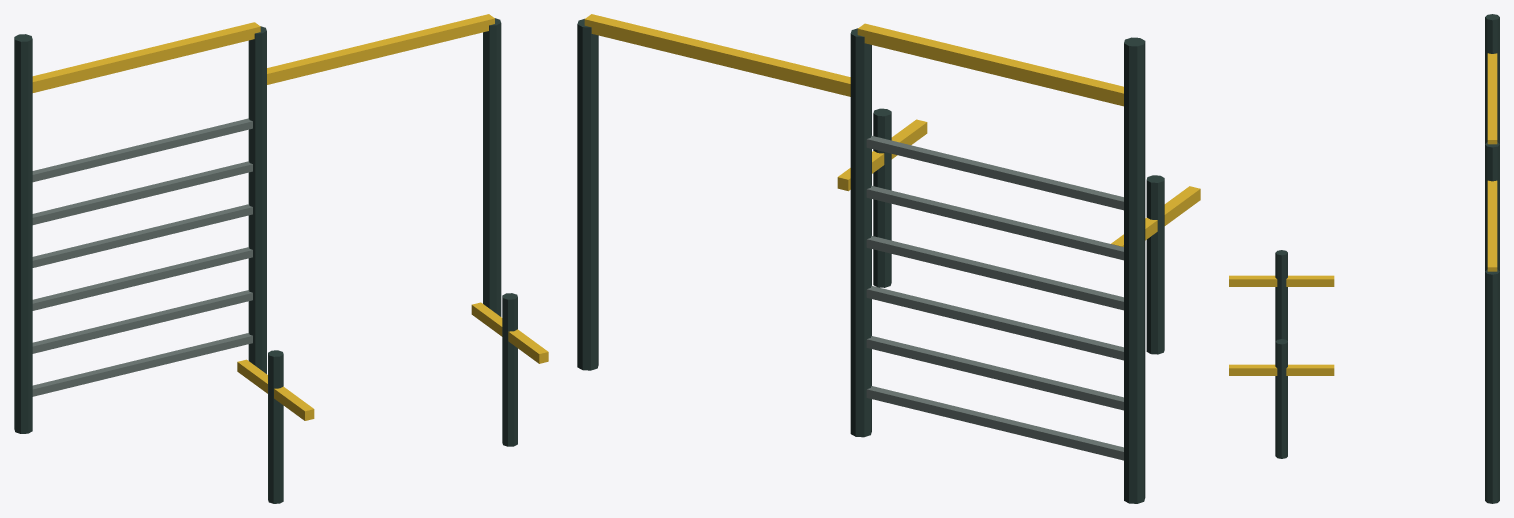
Rendered from OutdoorGym.obj.
The picture shows the model from 3 angles, left to right: view 1: azimuth 30°, elevation 25°; view 2: azimuth 150°, elevation 25°; view 3: azimuth 270°, elevation 25°; orthographic projection. The views are drawn at different scales.
Parts seen in each view (by area): view 1: OutdoorGym; view 2: OutdoorGym; view 3: OutdoorGym.
Boxes of the visible parts, left/top/right/bottom form: OutdoorGym: left=14, top=14, right=548, bottom=503; OutdoorGym: left=577, top=14, right=1200, bottom=503; OutdoorGym: left=1229, top=14, right=1499, bottom=503.
Size of the model in its own units: 4.14 by 3.2 by 2.57.
1 material, 1 textured.
